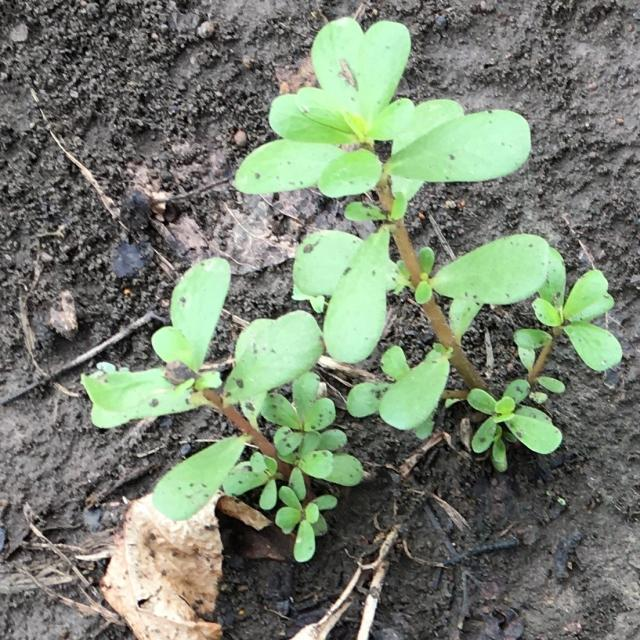Purslane: (234, 17, 624, 473), (81, 257, 363, 562)
